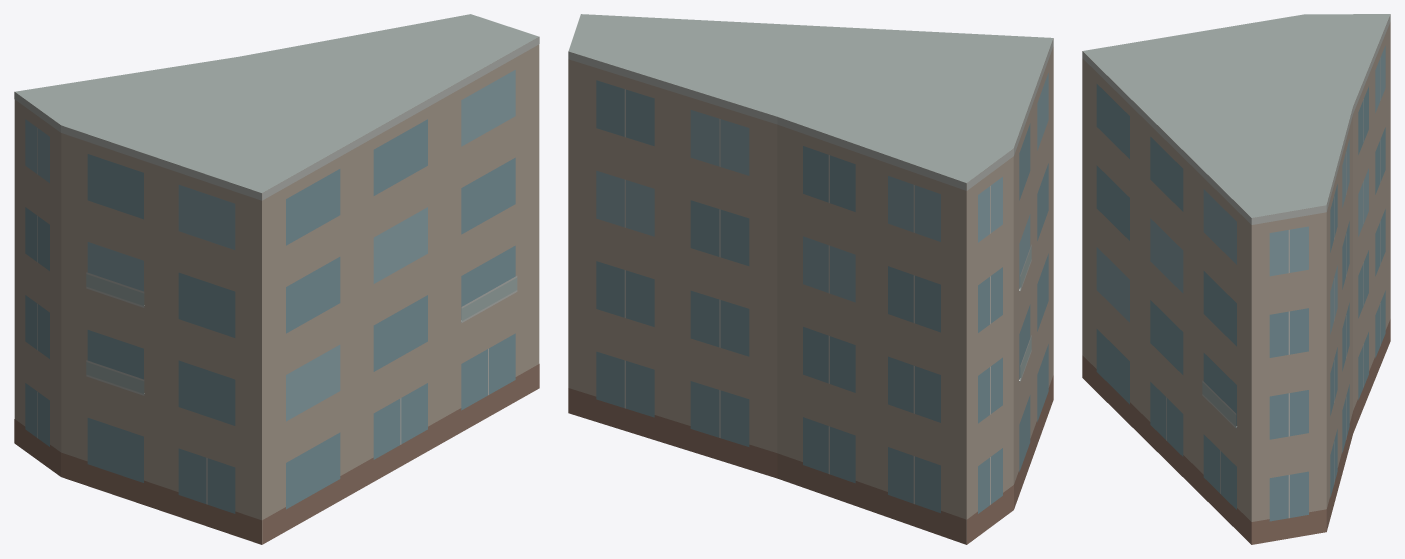
The model's file is survey-upis-32688576.glb.
The picture shows the model from 3 angles, left to right: view 1: azimuth 30°, elevation 25°; view 2: azimuth 150°, elevation 25°; view 3: azimuth 270°, elevation 25°; orthographic projection. The views are drawn at different scales.
Visible parts, largest first — view 1: survey-upis-32688576.tmp; view 2: survey-upis-32688576.tmp; view 3: survey-upis-32688576.tmp.
Boxes of the visible parts, x1,y1,x2,y2 form: survey-upis-32688576.tmp: (14,14,539,544); survey-upis-32688576.tmp: (568,14,1053,544); survey-upis-32688576.tmp: (1082,14,1390,544).
Bounding box in the file's own units: 15.22 × 11.36 × 9.72.
